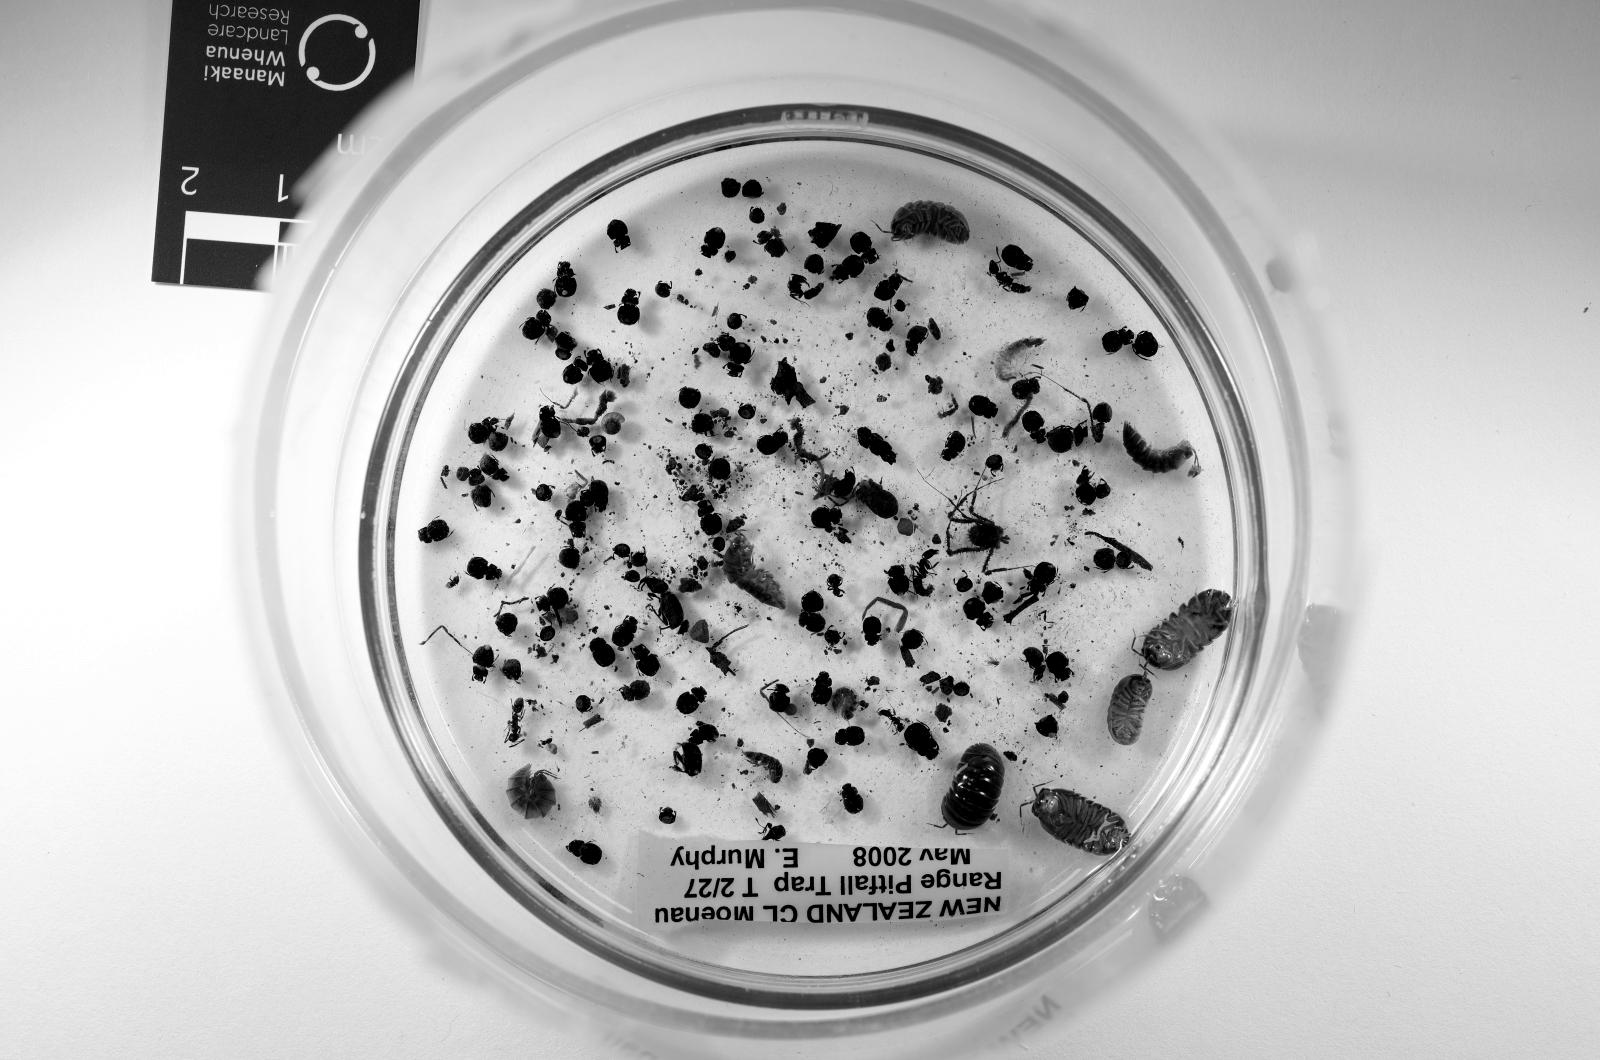amphipoda: (994, 338, 1044, 382)
coleoptera: (641, 578, 684, 630), (903, 724, 941, 761), (1047, 422, 1088, 453), (566, 838, 603, 866), (962, 596, 994, 627), (831, 255, 866, 283), (562, 500, 588, 537), (538, 404, 562, 444), (631, 643, 659, 677), (584, 348, 612, 382), (875, 273, 909, 301), (697, 500, 722, 537), (466, 556, 503, 581), (553, 261, 578, 298), (616, 289, 641, 326), (728, 342, 753, 379), (756, 230, 788, 258), (1094, 547, 1131, 571), (612, 615, 638, 649), (675, 686, 706, 714), (1028, 562, 1056, 593), (478, 453, 509, 481), (1103, 326, 1134, 354), (522, 311, 550, 342), (850, 233, 878, 264), (538, 587, 572, 612), (1022, 646, 1047, 680), (469, 472, 494, 506), (1022, 410, 1047, 444), (1075, 469, 1097, 506), (809, 506, 841, 531), (756, 432, 788, 457), (606, 220, 631, 252), (1044, 652, 1072, 680), (766, 683, 791, 714), (591, 637, 616, 668), (831, 469, 856, 500), (700, 227, 725, 258), (1000, 245, 1031, 270), (809, 671, 831, 705), (472, 646, 494, 680), (419, 519, 450, 543), (562, 357, 588, 385), (469, 419, 497, 444), (941, 432, 966, 460), (969, 394, 997, 419), (866, 307, 894, 332), (619, 680, 650, 702), (906, 326, 928, 357), (841, 783, 862, 814), (888, 565, 909, 596), (588, 481, 609, 512), (862, 615, 881, 646), (691, 724, 719, 745), (834, 727, 866, 745), (1012, 379, 1041, 398), (800, 612, 825, 634), (825, 575, 844, 596)
formicidae: (988, 261, 1031, 295), (909, 547, 938, 596), (788, 273, 825, 301), (506, 699, 525, 745), (878, 708, 906, 733)
gastropoda: (600, 413, 625, 435)
isopoda: (1141, 590, 1234, 671), (1031, 789, 1128, 854), (941, 742, 1006, 832), (722, 534, 784, 609), (1122, 422, 1200, 478), (891, 202, 969, 245), (1106, 674, 1153, 745), (506, 767, 556, 820), (744, 752, 784, 783), (831, 686, 859, 720)
opiliones: (947, 488, 1009, 575), (850, 478, 897, 519)
